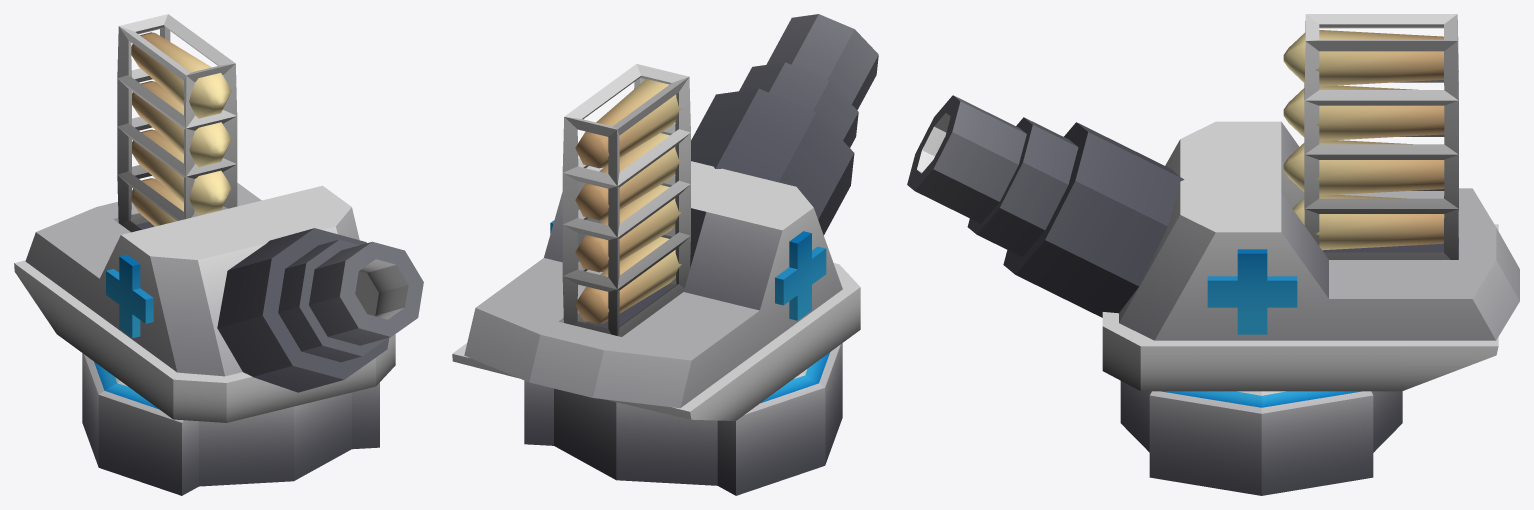
The model's file is Suppobusier.fbx.
The picture shows the model from 3 angles, left to right: view 1: azimuth 30°, elevation 25°; view 2: azimuth 150°, elevation 25°; view 3: azimuth 270°, elevation 25°; orthographic projection. The views are drawn at different scales.
Parts seen in each view (by area): view 1: TourelleSuppobusier, Suppobusier; view 2: TourelleSuppobusier, Suppobusier; view 3: TourelleSuppobusier, Suppobusier.
Boxes of the visible parts, x1,y1,x2,y2 form: TourelleSuppobusier: (14, 14, 423, 422); Suppobusier: (82, 353, 379, 495); TourelleSuppobusier: (452, 14, 878, 420); Suppobusier: (524, 343, 842, 495); TourelleSuppobusier: (907, 14, 1519, 391); Suppobusier: (1120, 381, 1402, 495).
Bounding box in the file's own units: 2 × 2.54 × 3.56.
